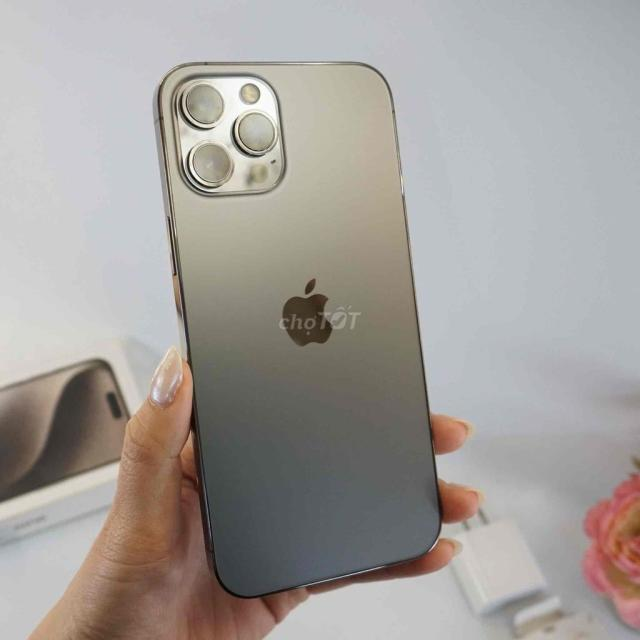gen_12_13: (145, 51, 444, 604)
